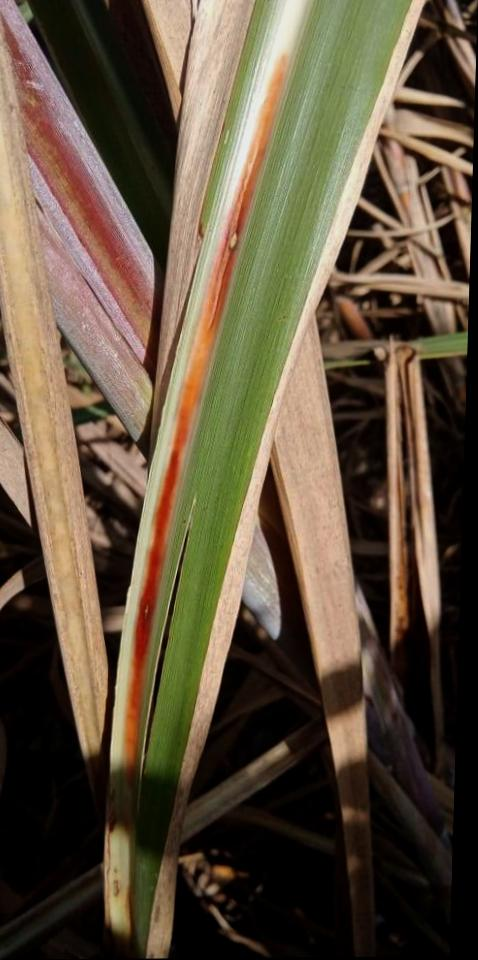RedRot: (122, 53, 293, 802)
